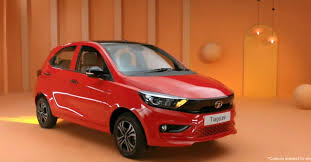Tiago: (32, 39, 240, 160)
